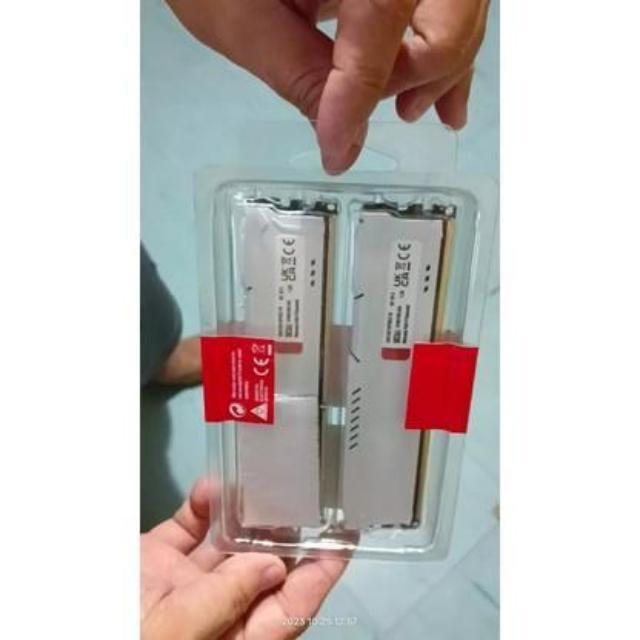RAM: (336, 198, 454, 546), (223, 190, 337, 535)
